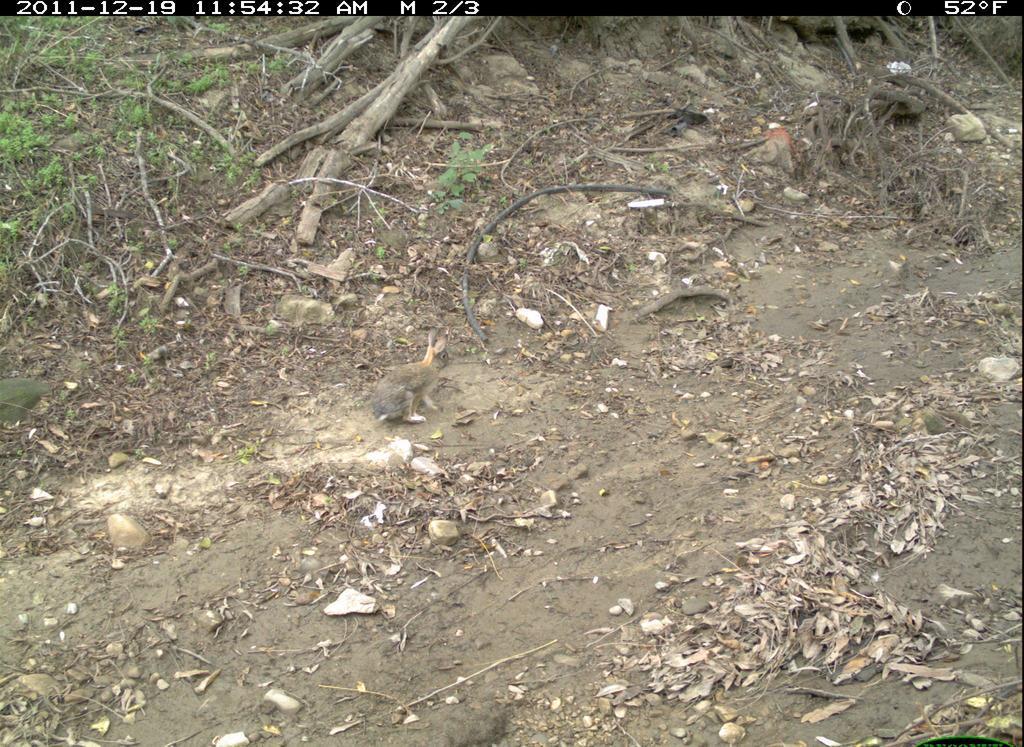rabbit: (355, 322, 491, 450)
